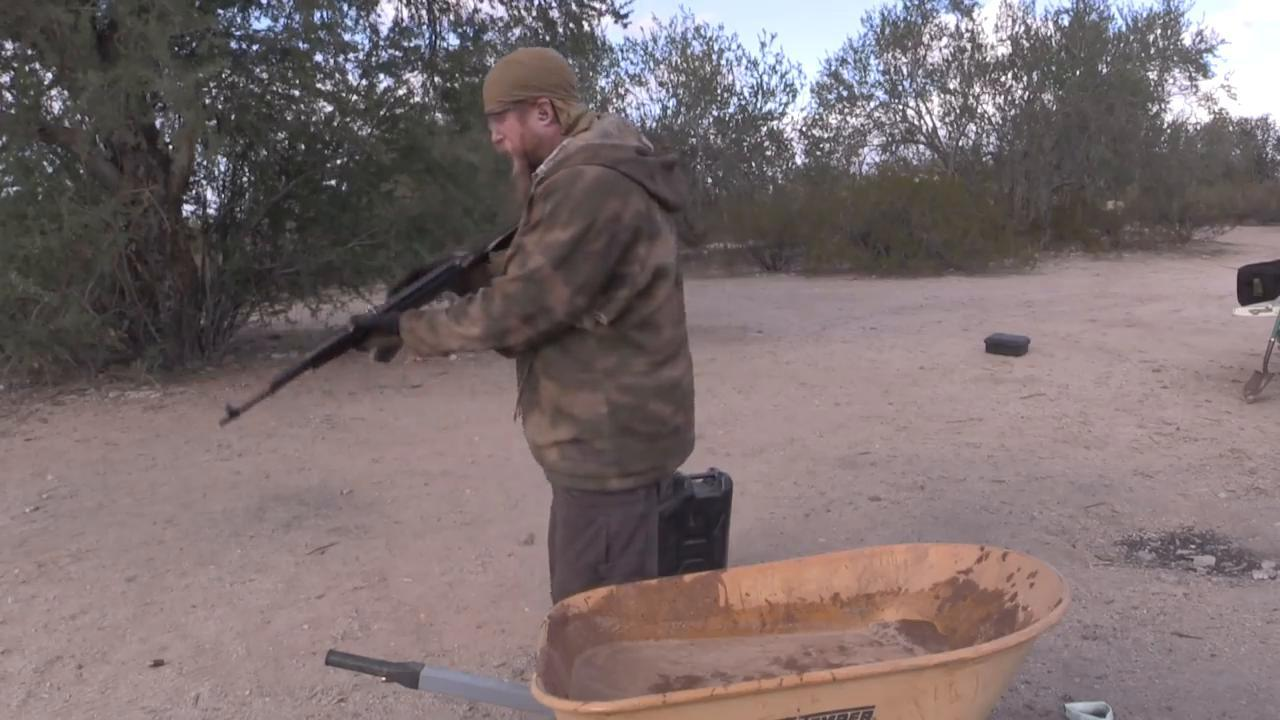AK47 Rifle: (217, 218, 520, 429)
